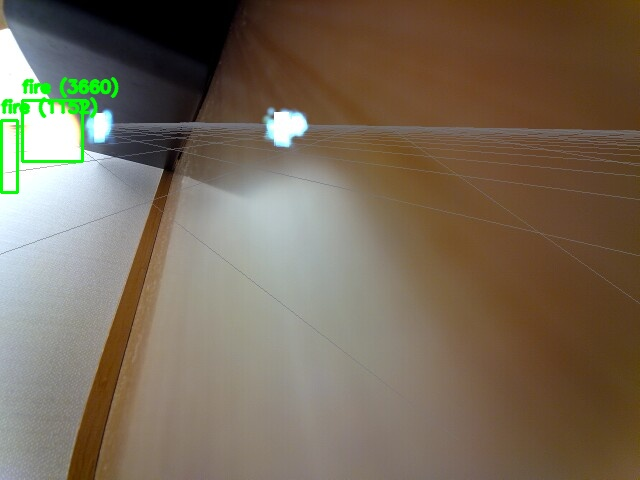fire: (22, 100, 82, 161), (1, 120, 17, 192)
